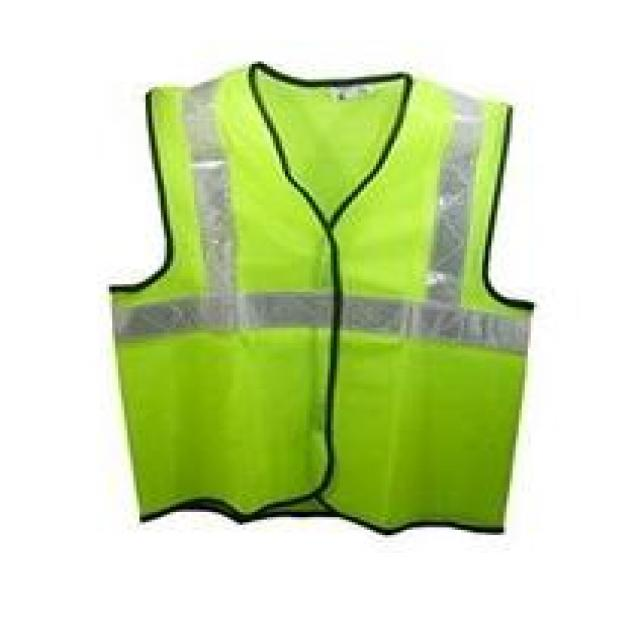Reflective-Jacket: (55, 49, 570, 553)
